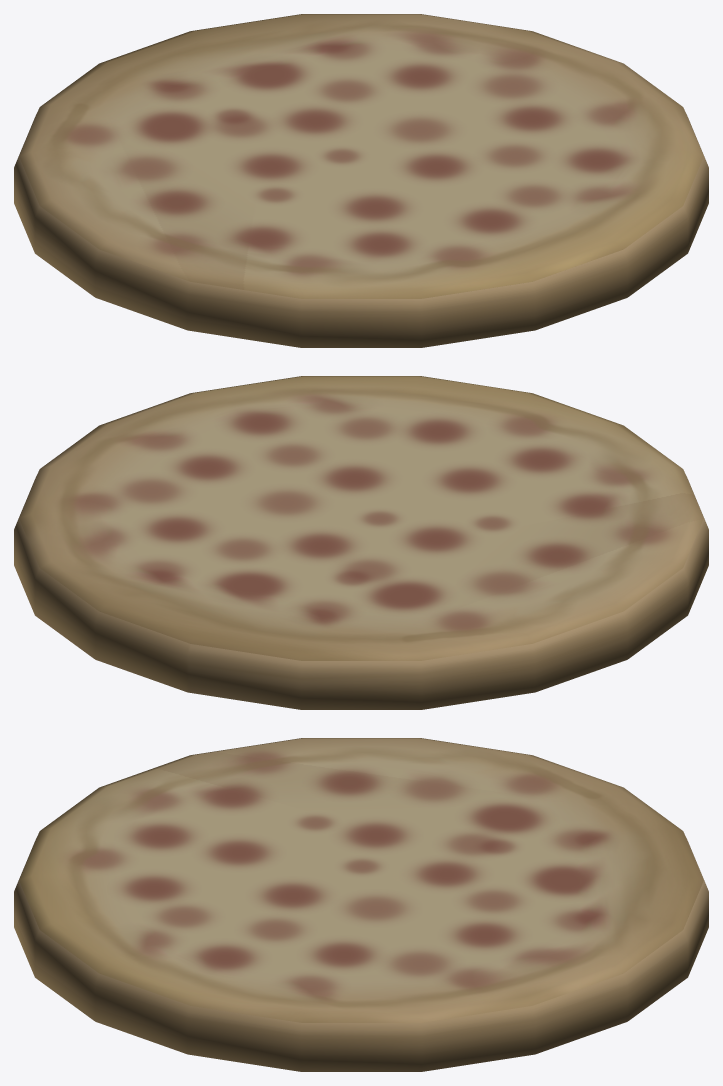
Rendered from Pizza (1).fbx.
3 renders of one model, top to bottom at view 1: azimuth 30°, elevation 25°; view 2: azimuth 150°, elevation 25°; view 3: azimuth 270°, elevation 25°, orthographic.
Parts seen in each view (by area): view 1: Pizza; view 2: Pizza; view 3: Pizza.
Part boxes in pixels (x1=…): Pizza: x1=14, y1=14, x2=708, y2=347; Pizza: x1=14, y1=376, x2=708, y2=709; Pizza: x1=14, y1=738, x2=708, y2=1071.
Bounding box in the file's own units: 197 × 16.33 × 200.
